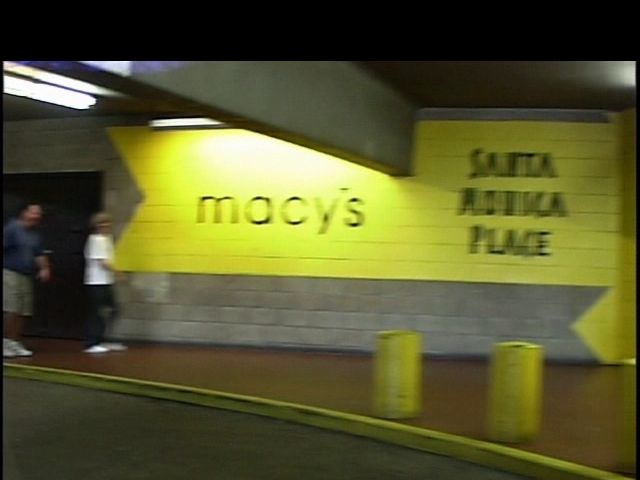person: (64, 203, 141, 369), (0, 191, 51, 359)
